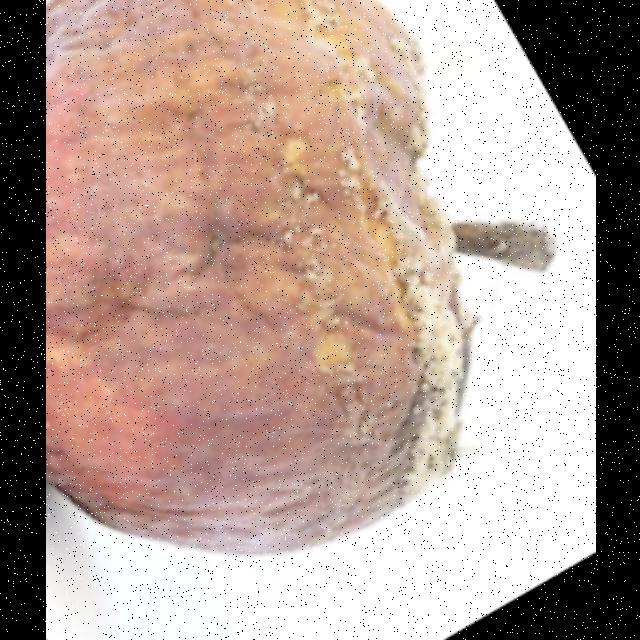Apel Tidak Segar: (45, 0, 525, 568)
